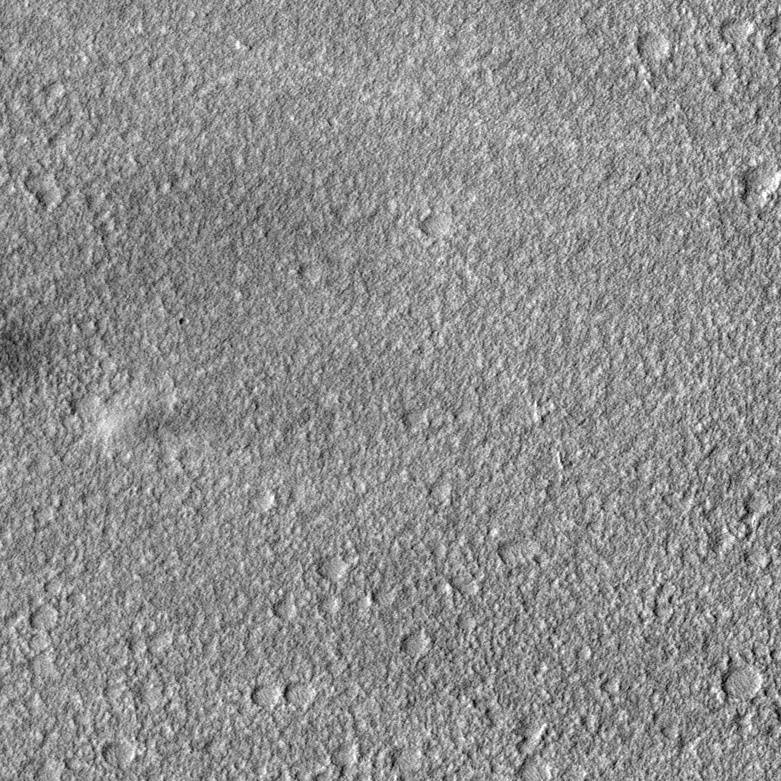dust_devil: (94, 396, 229, 451)
